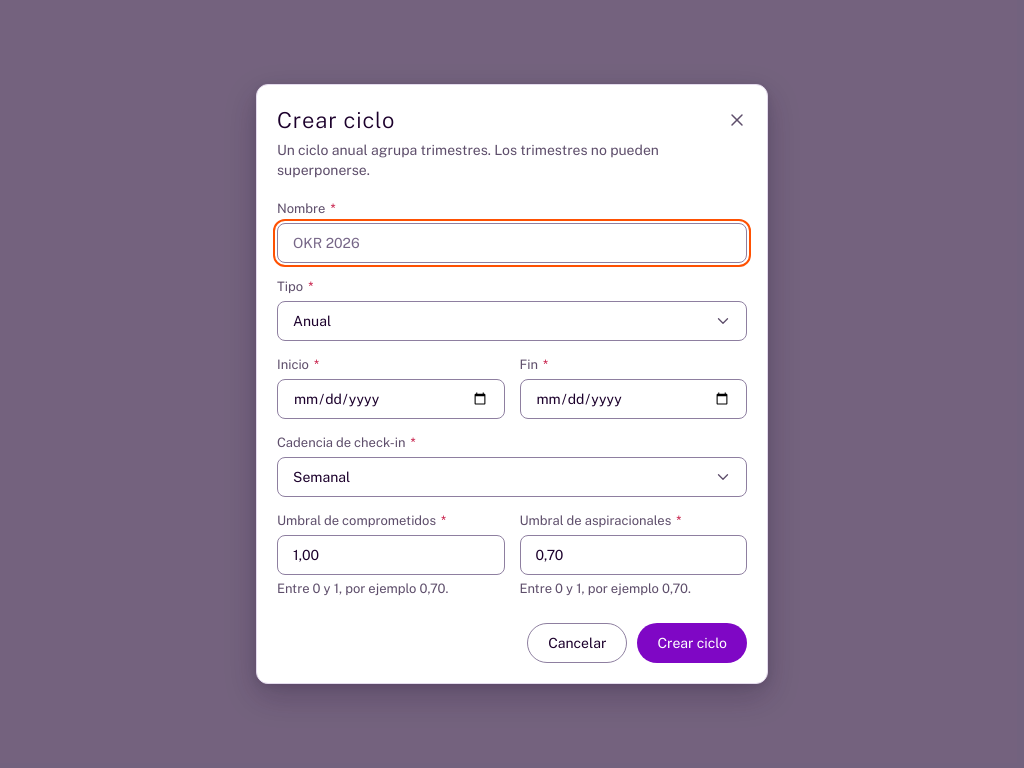
Scenario: CycleFormModal › pide el ciclo anual cuando el tipo es trimestral
The image size is (1024, 768).
Select "Trimestral" in the dropdown labelled "Tipo*" at (512, 321), box [277,301,747,341]
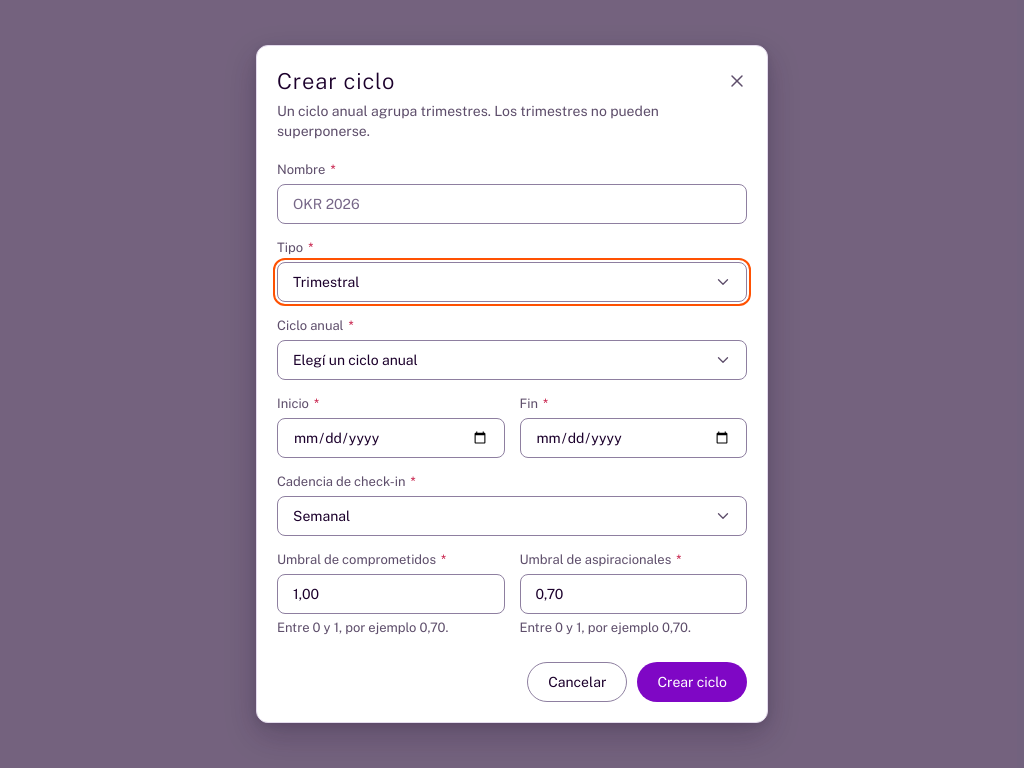
Now the dropdown labelled "Ciclo anual*" is shown, box [277,340,747,380]
